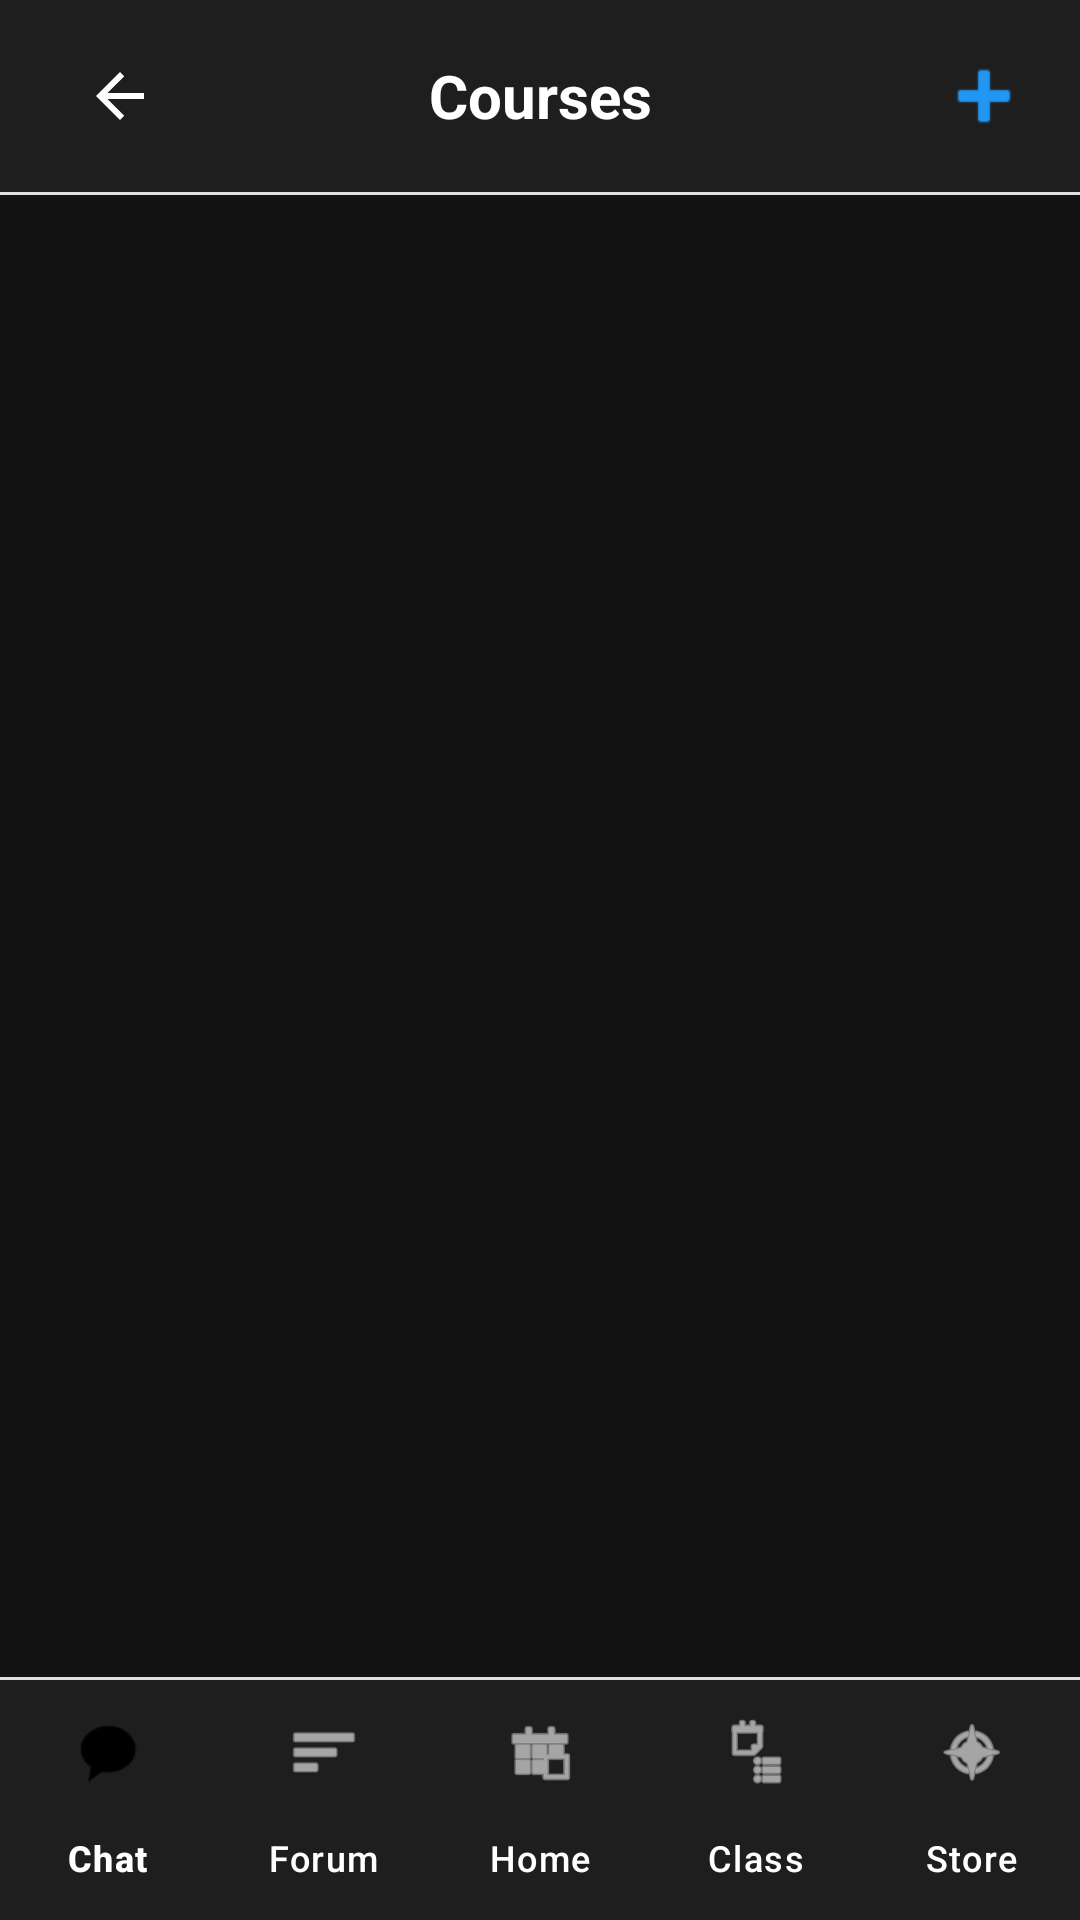

Icon click points for this 1080 x 1920 phone screenshot, format (x=x, y=y):
Add new course: (x=984, y=96)
Back to previous page: (x=120, y=96)
